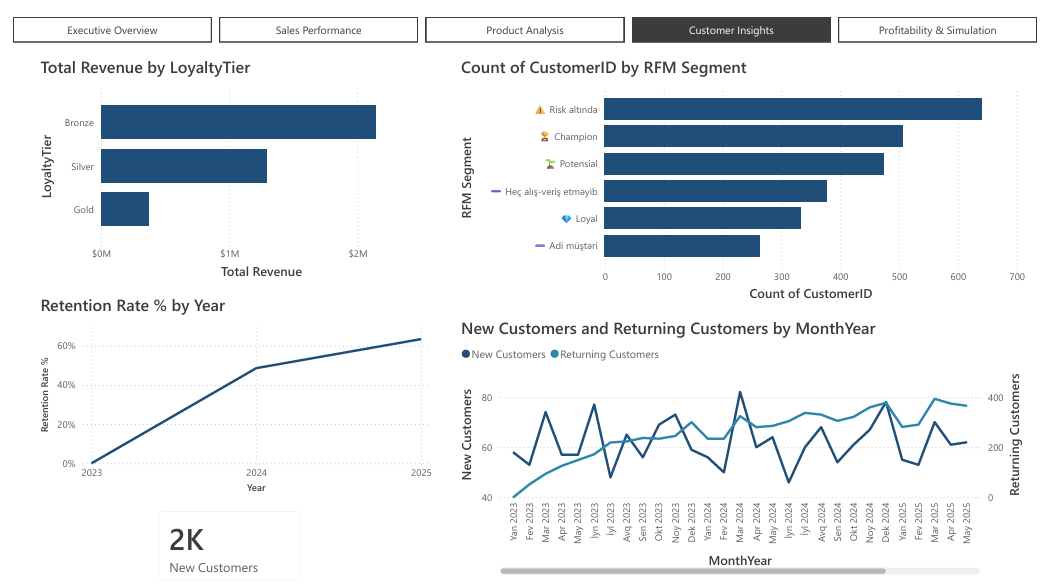

Layout of this report page (visuals, bound fields, positions):
{"tool":"powerbi","page":{"name":"Customer Insights","canvas":[1280,720],"ordinal":3},"visuals":[{"type":"cardVisual","fields":{"Data":["_Measures.New Customers"]},"box":[165.4,600,209.3,120],"z":0},{"type":"barChart","fields":{"Y":["CountNonNull(Dim_Customer.CustomerID)"],"Category":["Dim_Customer.RFM Segment"]},"box":[554.6,48.3,715.6,311.7],"z":1000},{"type":"pageNavigator","box":[0,0,1280.5,30.7],"z":2000},{"type":"clusteredBarChart","fields":{"Category":["Dim_Customer.LoyaltyTier"],"Y":["_Measures.Total Revenue"]},"box":[29.3,48.3,499,283.9],"z":3000},{"type":"lineChart","fields":{"Category":["Dim_Date.MonthYear"],"Y":["_Measures.New Customers"],"Y2":["_Measures.Returning Customers"]},"box":[554.6,373.2,715.6,327.8],"z":4000},{"type":"lineChart","fields":{"Y":["_Measures.Retention Rate %"],"Category":["Dim_Date.Year"]},"box":[29.3,345.4,499,254.6],"z":5000}]}

Visuals, with their boxes in screenshot pixels (x1, y1, x2, y2), scaled from the page's 1280x720 canvas onto the 1047x587 screenshot:
cardVisual - _Measures.New Customers: [left=135, top=489, right=306, bottom=586]
barChart - CountNonNull(Dim_Customer.CustomerID) x Dim_Customer.RFM Segment: [left=454, top=39, right=1039, bottom=294]
pageNavigator: [left=0, top=0, right=1046, bottom=25]
clusteredBarChart - Dim_Customer.LoyaltyTier x _Measures.Total Revenue: [left=24, top=39, right=432, bottom=271]
lineChart - Dim_Date.MonthYear x _Measures.New Customers: [left=454, top=304, right=1039, bottom=572]
lineChart - _Measures.Retention Rate % x Dim_Date.Year: [left=24, top=282, right=432, bottom=489]
